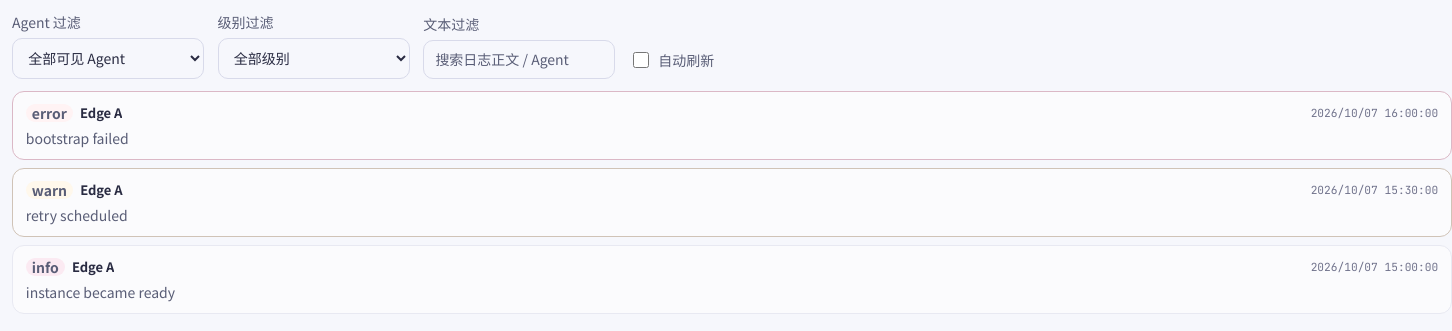
Test: PluginLogViewer › filters loaded entries by level group without refetching
The image size is (1452, 331).
Select "错误" in the dropdown with test id "plugin-log-level-filter" at (314, 58), box [218, 38, 410, 79]
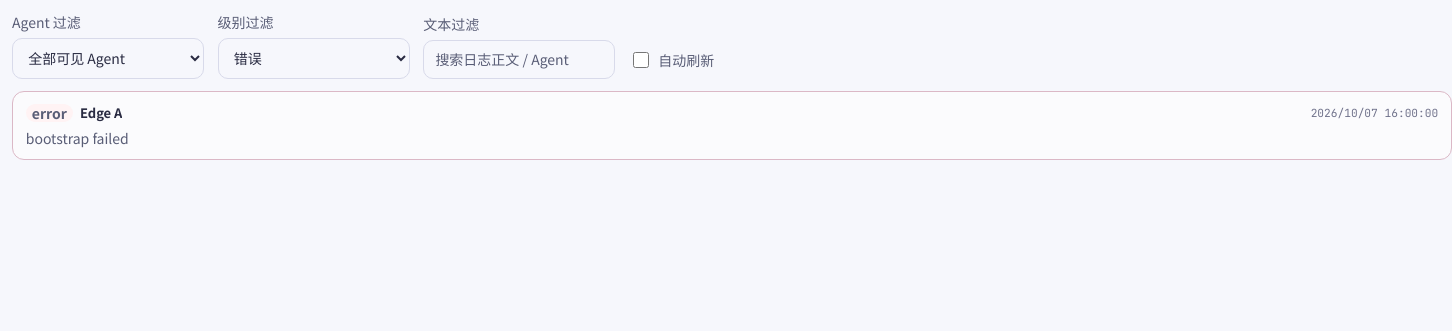
Check: the text "bootstrap failed" is shown, box [26, 128, 129, 148]
Check: the number of list items is 1, box [12, 91, 1451, 160]
Select "警告" in the dropdown with test id "plugin-log-level-filter" at (314, 58), box [218, 38, 410, 79]
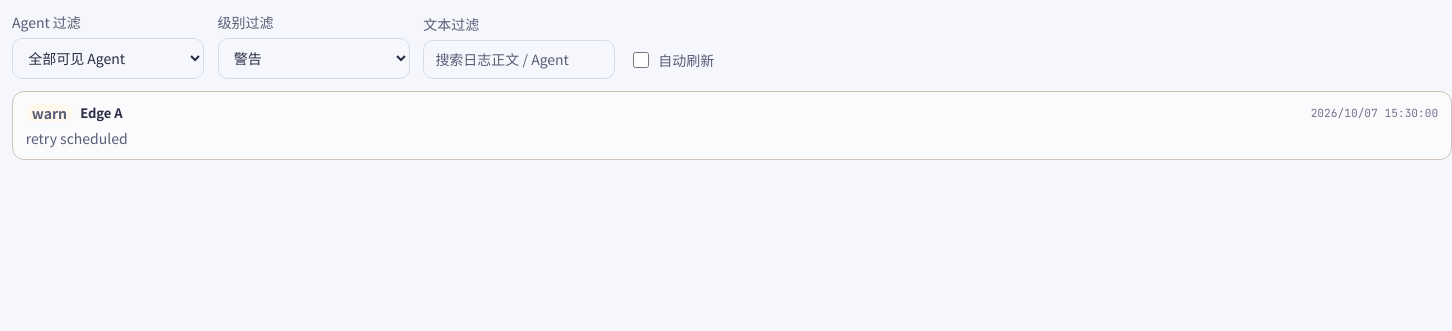
Check: the number of list items is 1, box [12, 91, 1451, 160]
Check: the text "retry scheduled" is shown, box [26, 128, 128, 148]
Select "信息" in the dropdown with test id "plugin-log-level-filter" at (314, 58), box [218, 38, 410, 79]
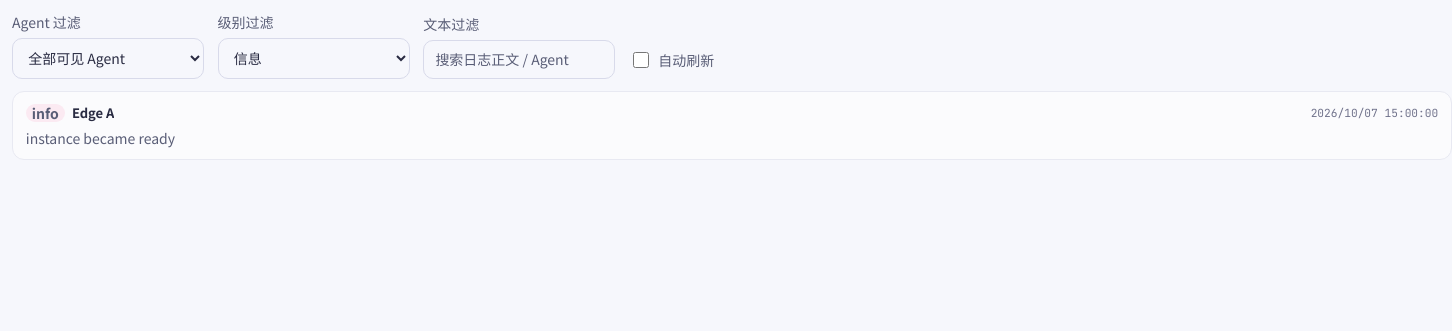
Check: the number of list items is 1, box [12, 91, 1451, 160]
Check: the text "instance became ready" is shown, box [26, 128, 175, 148]
Select "全部级别" in the dropdown with test id "plugin-log-level-filter" at (314, 58), box [218, 38, 410, 79]
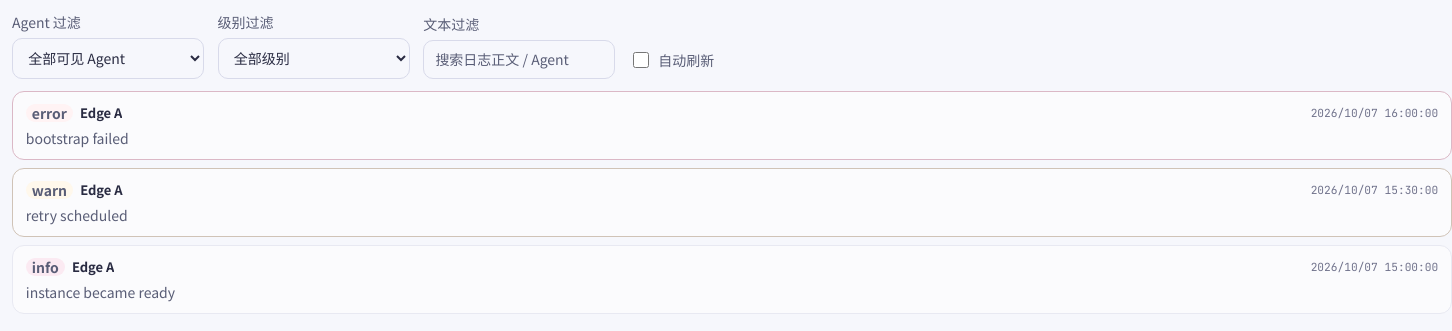
Check: the number of list items is 3, box [12, 91, 1451, 160]; [12, 168, 1451, 237]; [12, 245, 1451, 314]
